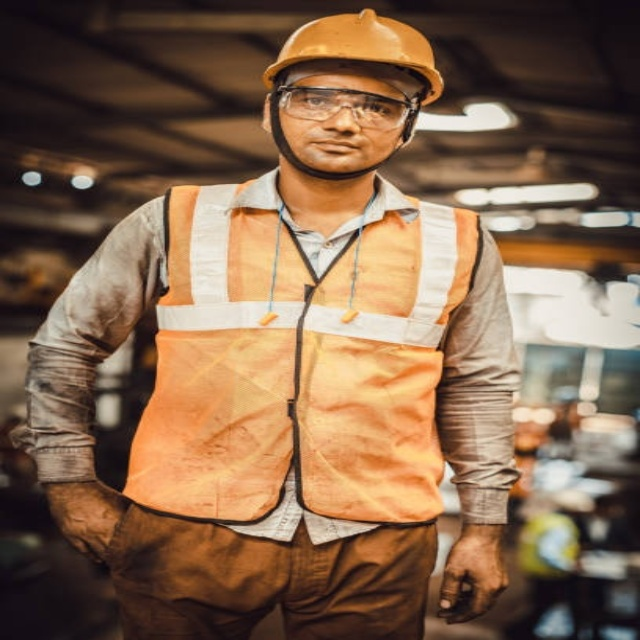Gafas: (276, 85, 414, 131)
Sin_guantes: (42, 478, 132, 564), (437, 535, 510, 626)
Sin_mascara: (296, 136, 367, 161)
